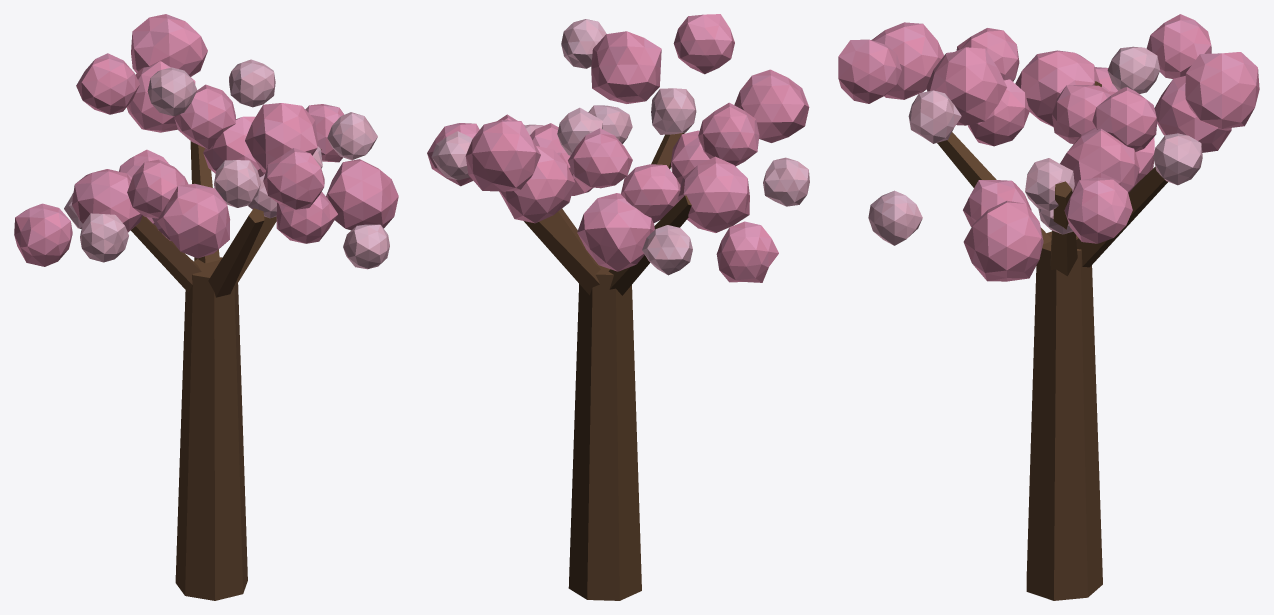
Rendered from tree-peach.glb.
The picture shows the model from 3 angles, left to right: view 1: azimuth 30°, elevation 25°; view 2: azimuth 150°, elevation 25°; view 3: azimuth 270°, elevation 25°; orthographic projection. The views are drawn at different scales.
Visible parts, largest first — view 1: tree-peach; view 2: tree-peach; view 3: tree-peach.
Boxes of the visible parts, x1,y1,x2,y2 form: tree-peach: (14,14,398,600); tree-peach: (427,14,809,600); tree-peach: (838,14,1259,600).
Size of the model in its own units: 1.75 by 2.57 by 1.78.
